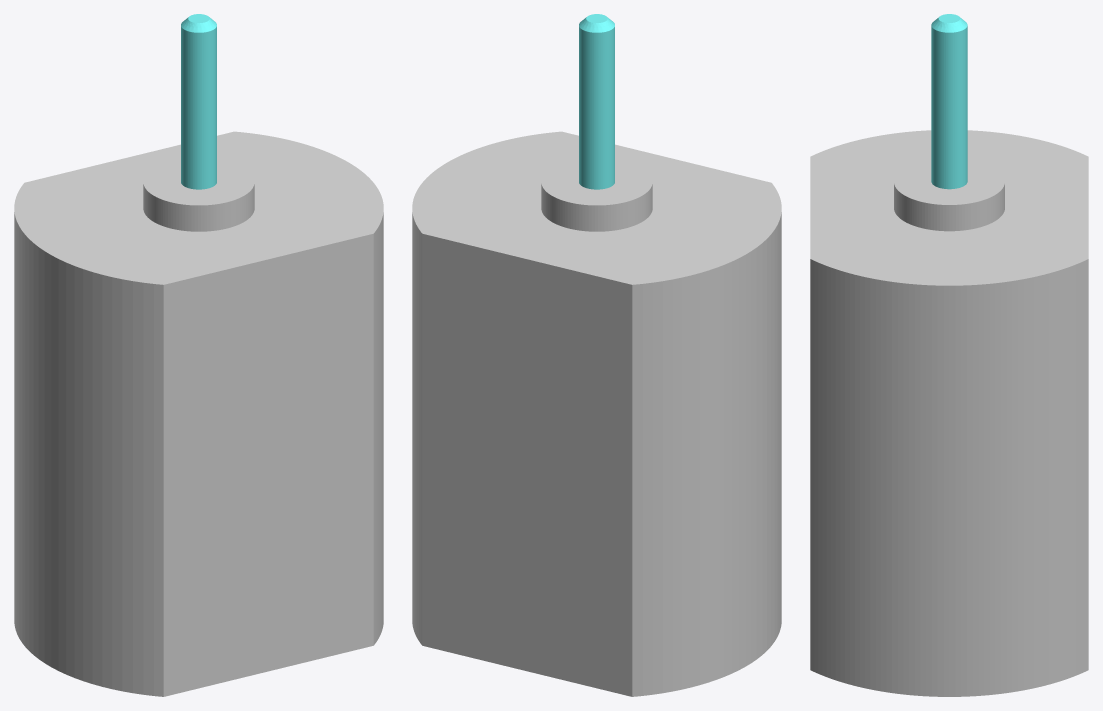
3 renders of one model, left to right at view 1: azimuth 30°, elevation 25°; view 2: azimuth 150°, elevation 25°; view 3: azimuth 270°, elevation 25°, orthographic.
Visible parts, largest first — view 1: out-body, out-shaft; view 2: out-body, out-shaft; view 3: out-body, out-shaft.
Boxes of the visible parts, box(x1,y1,x2,y2) form: out-body: box(14, 131, 383, 696); out-shaft: box(181, 14, 216, 189); out-body: box(412, 131, 781, 696); out-shaft: box(579, 14, 614, 189); out-body: box(810, 130, 1088, 696); out-shaft: box(931, 14, 967, 189).
Bounding box in the file's own units: 0.0204 × 0.0383 × 0.0154.
